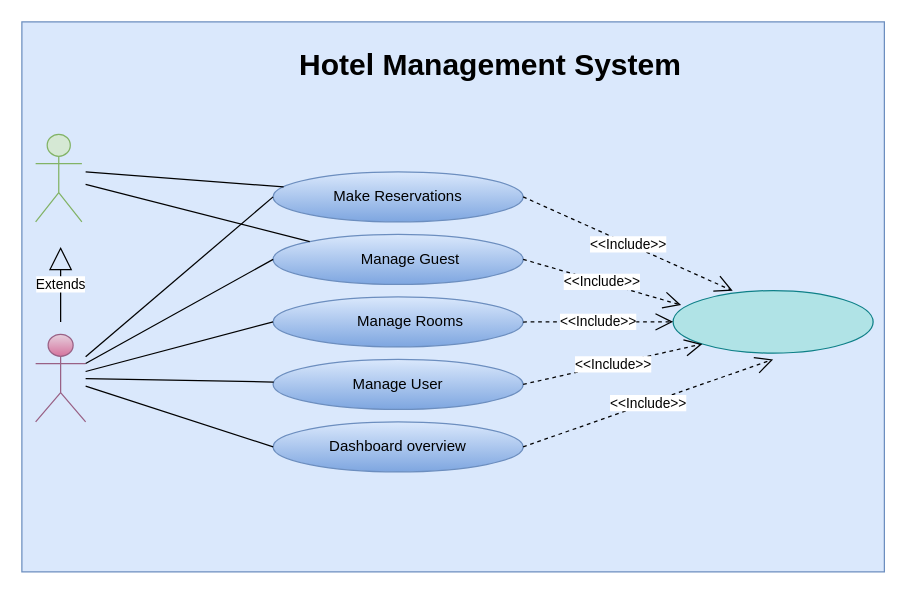
The diagram is 906 pixels wide and 594 high, and some of its shapes have lost their labels. The shapes that lost their labels are listed below. From the top down, each one's box as (x1, y1, x2, y2) in pixels, then its label:
(34, 133, 82, 222): Staff
(672, 289, 873, 353): Authentication
(34, 333, 86, 422): Admin
